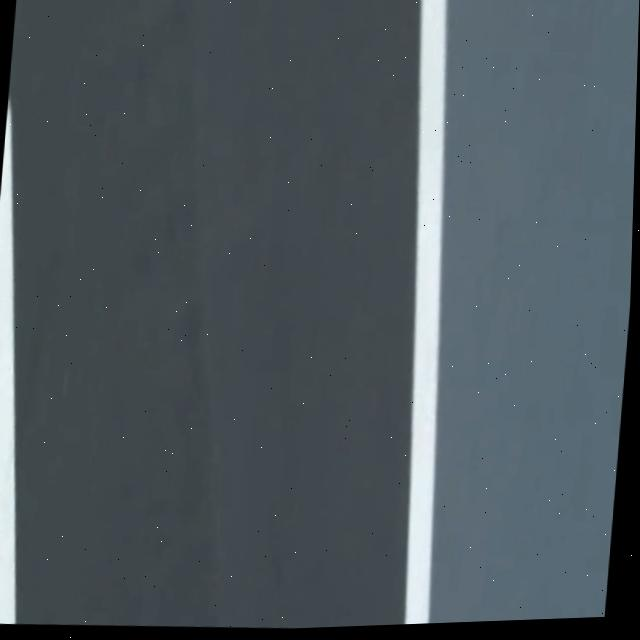center: (0, 100, 17, 624)
left: (405, 0, 448, 624)
